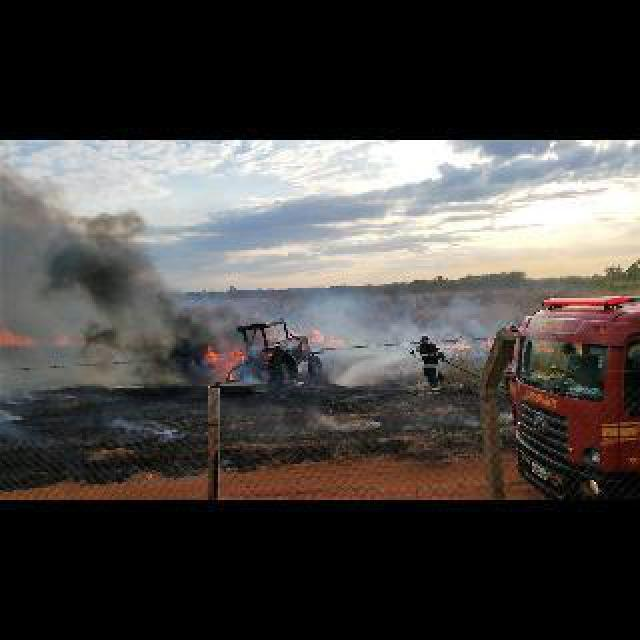fire: (290, 324, 346, 350), (4, 328, 84, 346), (208, 346, 240, 378), (444, 336, 492, 356)
smoke: (35, 227, 145, 315), (150, 302, 212, 384)
